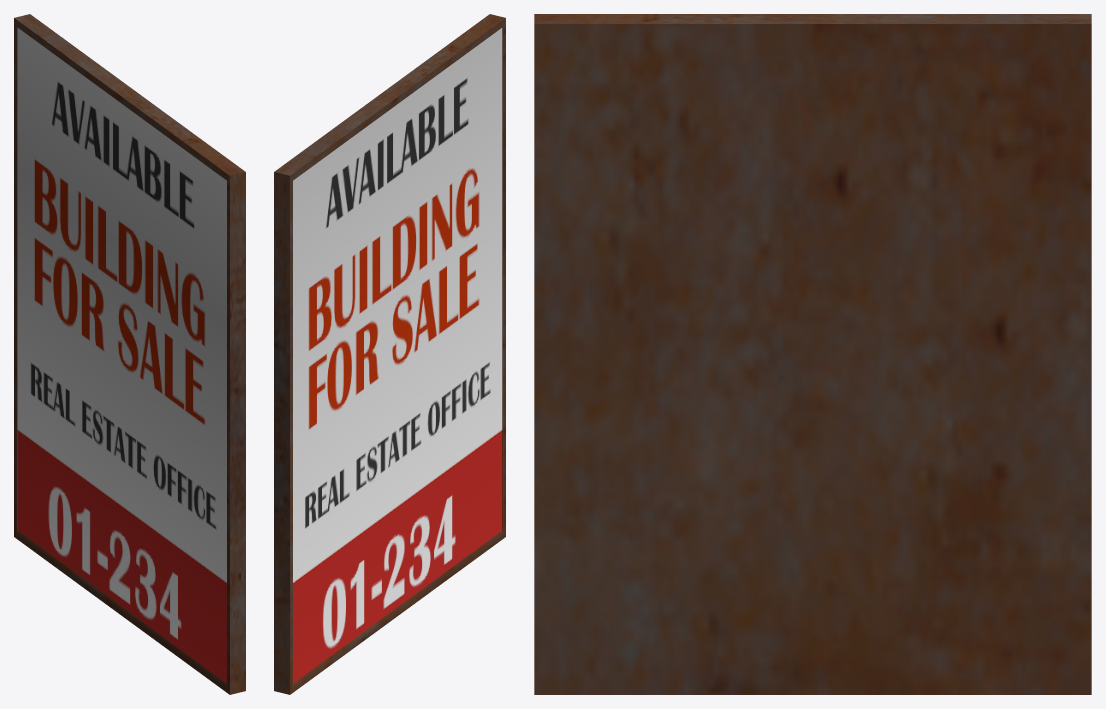
File: Ban01.fbx
3 views of the same model, side by side, from view 1: azimuth 30°, elevation 25°; view 2: azimuth 150°, elevation 25°; view 3: azimuth 270°, elevation 25° (orthographic). The views are drawn at different scales.
Visible parts, largest first — view 1: Ban01 (3); view 2: Ban01 (3); view 3: Ban01 (3).
Part boxes in pixels (bbox=[...]): Ban01 (3): bbox=[14, 14, 245, 694]; Ban01 (3): bbox=[274, 14, 505, 694]; Ban01 (3): bbox=[534, 14, 1091, 694].
Bounding box in the file's own units: 4.74 × 148 × 111.
